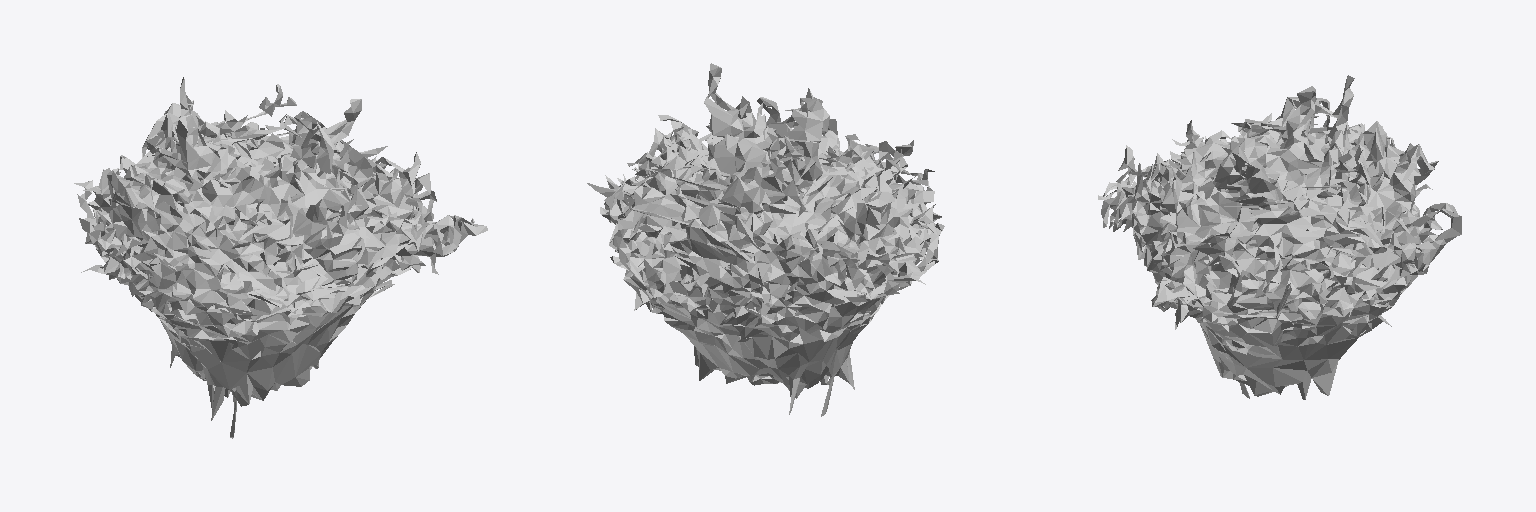
File: c66fd126e9d4_swampy_bush_min.obj
The picture shows the model from 3 angles: view 1: azimuth 30°, elevation 25°; view 2: azimuth 150°, elevation 25°; view 3: azimuth 270°, elevation 25°; orthographic projection.
Parts seen in each view (by area): view 1: mesh; view 2: mesh; view 3: mesh.
Boxes of the visible parts, x1=… form: mesh: x1=74, y1=77, x2=487, y2=438; mesh: x1=587, y1=63, x2=944, y2=416; mesh: x1=1098, y1=75, x2=1461, y2=399.
Bounding box in the file's own units: 0.9975 × 0.9171 × 0.931.